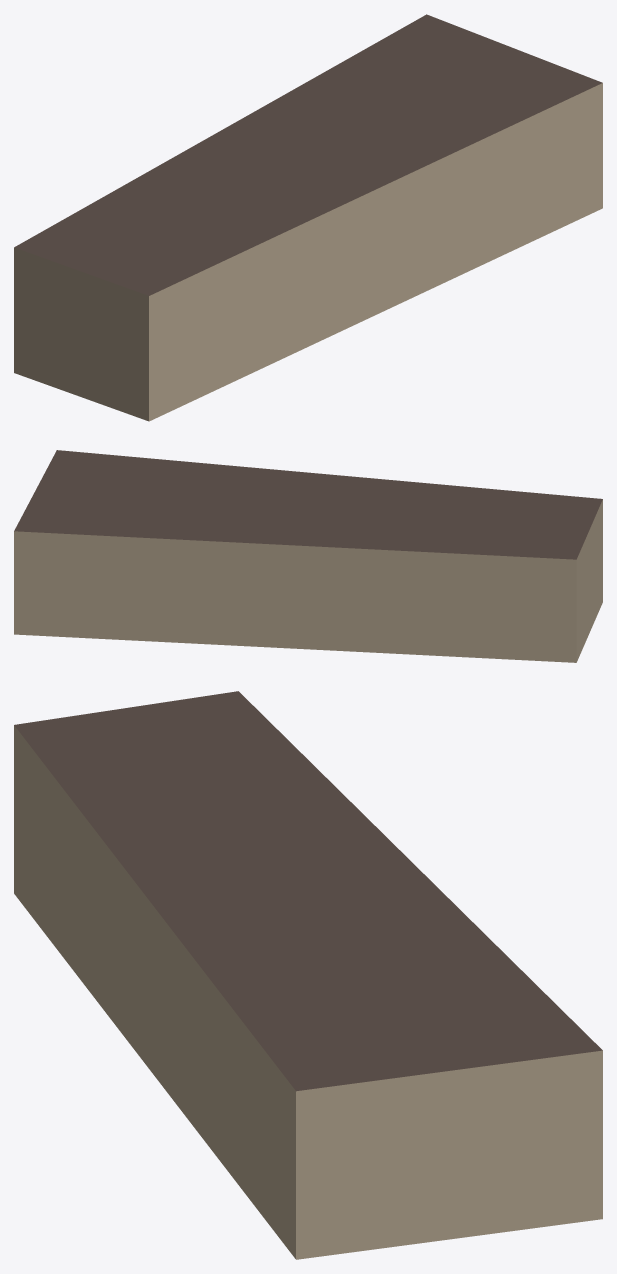
3 renders of one model, top to bottom at view 1: azimuth 30°, elevation 25°; view 2: azimuth 150°, elevation 25°; view 3: azimuth 270°, elevation 25°, orthographic. The views are drawn at different scales.
Visible parts, largest first — view 1: HP-w1512911300; view 2: HP-w1512911300; view 3: HP-w1512911300.
Part boxes in pixels (x1=…): HP-w1512911300: x1=14, y1=14, x2=602, y2=421; HP-w1512911300: x1=14, y1=450, x2=602, y2=662; HP-w1512911300: x1=14, y1=691, x2=602, y2=1259.
Size of the model in its own units: 45.8 by 9 by 28.49.
